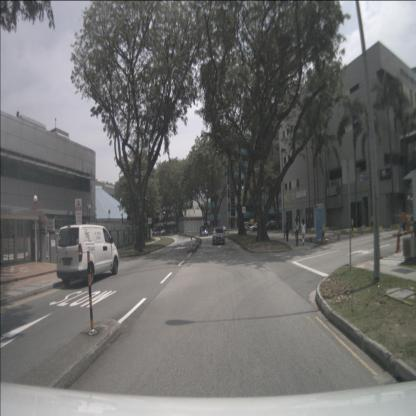cone: (395, 232, 401, 252)
